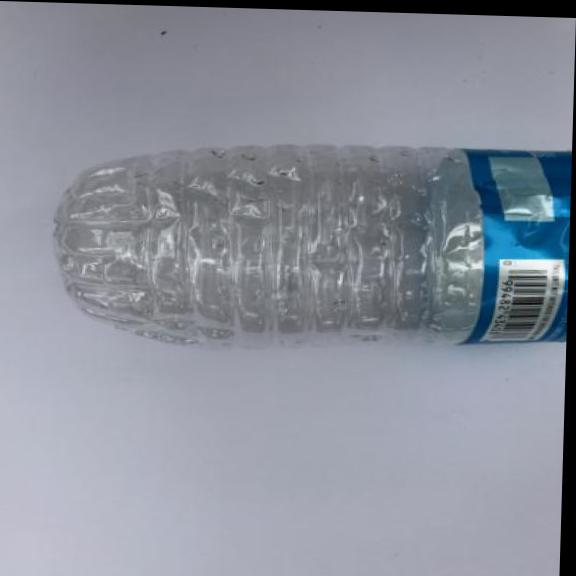Plastik: (38, 122, 572, 354)
